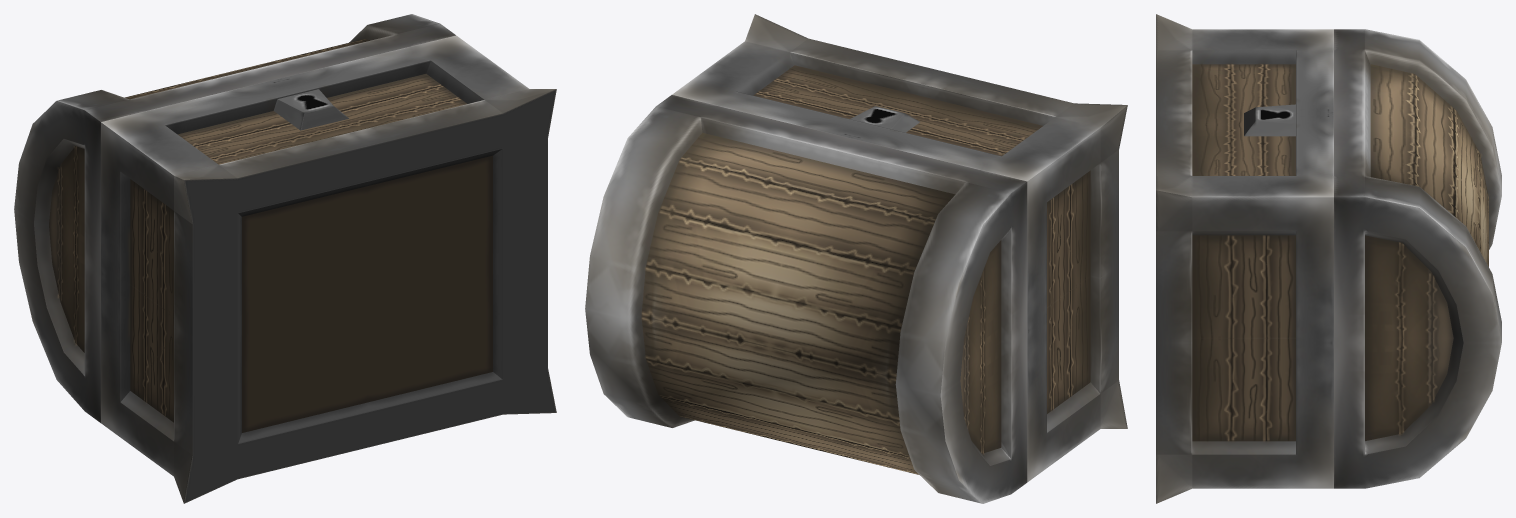
File: Chest.fbx
3 views of the same model, side by side, from view 1: azimuth 30°, elevation 25°; view 2: azimuth 150°, elevation 25°; view 3: azimuth 270°, elevation 25° (orthographic). The views are drawn at different scales.
Parts seen in each view (by area): view 1: Chest_bot, Chest_top; view 2: Chest_top, Chest_bot; view 3: Chest_bot, Chest_top.
Boxes of the visible parts, x1,y1,x2,y2 form: Chest_bot: (101,35,556,503); Chest_top: (14,14,455,422); Chest_top: (585,95,1027,503); Chest_bot: (672,14,1127,482); Chest_bot: (1156,14,1333,503); Chest_top: (1334,29,1501,488).
Size of the model in its own units: 211 by 175 by 175.
